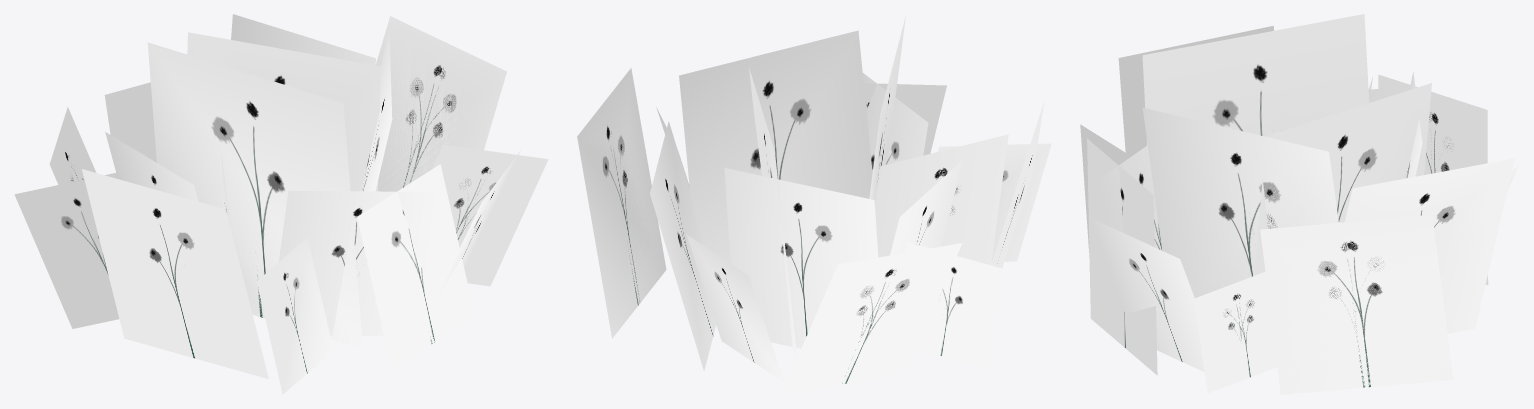
File: TFF_Flower_Patch_01.fbx
3 views of the same model, side by side, from view 1: azimuth 30°, elevation 25°; view 2: azimuth 150°, elevation 25°; view 3: azimuth 270°, elevation 25° (orthographic). The views are drawn at different scales.
Visible parts, largest first — view 1: TFF_Flower_Patch_01_LOD0; view 2: TFF_Flower_Patch_01_LOD0; view 3: TFF_Flower_Patch_01_LOD0.
Part boxes in pixels (bbox=[...]): TFF_Flower_Patch_01_LOD0: bbox=[14, 14, 548, 394]; TFF_Flower_Patch_01_LOD0: bbox=[577, 16, 1051, 394]; TFF_Flower_Patch_01_LOD0: bbox=[1080, 14, 1519, 394].
Size of what is drawn, in the model's own units: 158 by 87.35 by 135.
